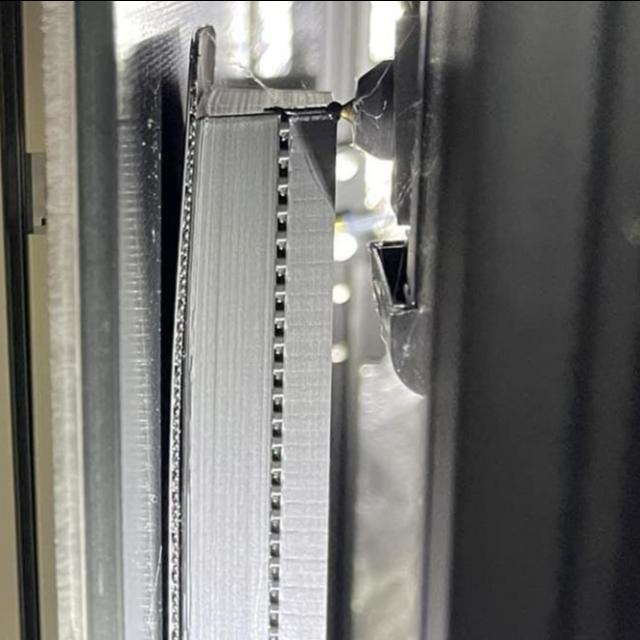Warping: (169, 48, 212, 316)
